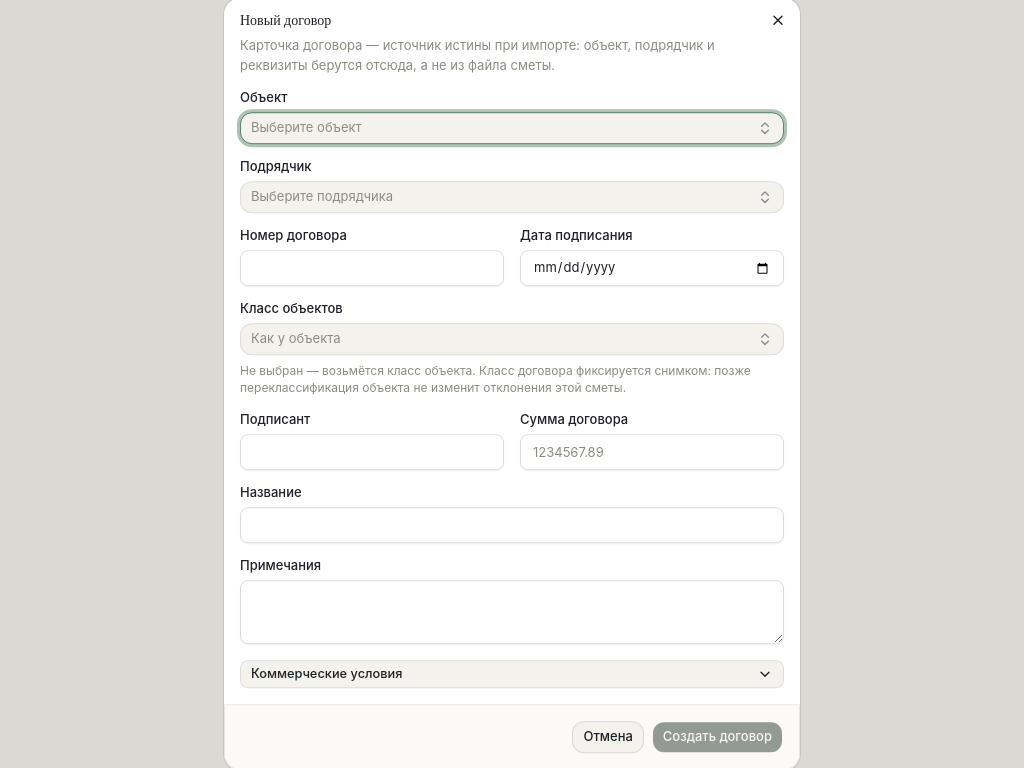
Test: Форма договора: поиск объекта и подрядчика › выбранный объект остаётся подписан, даже когда выпал из выдачи
Click the dropdown labelled "Выберите объект": (306, 127) [240,112,784,144]
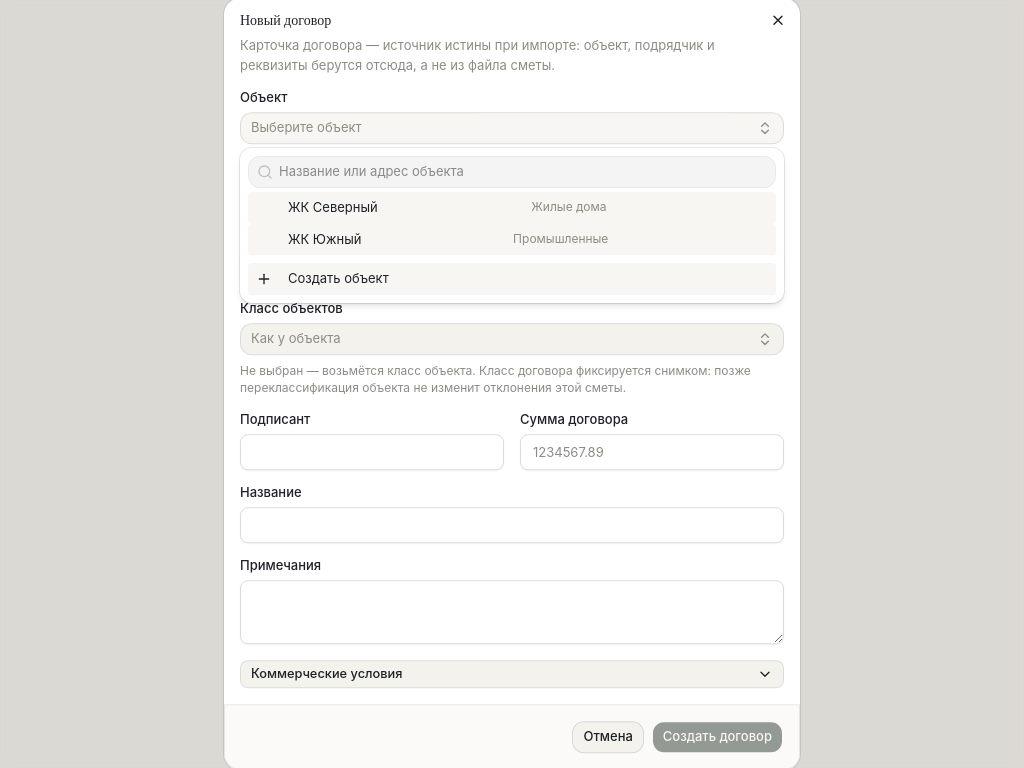
Click the text "ЖК Северный": (333, 208) [288,198,378,218]
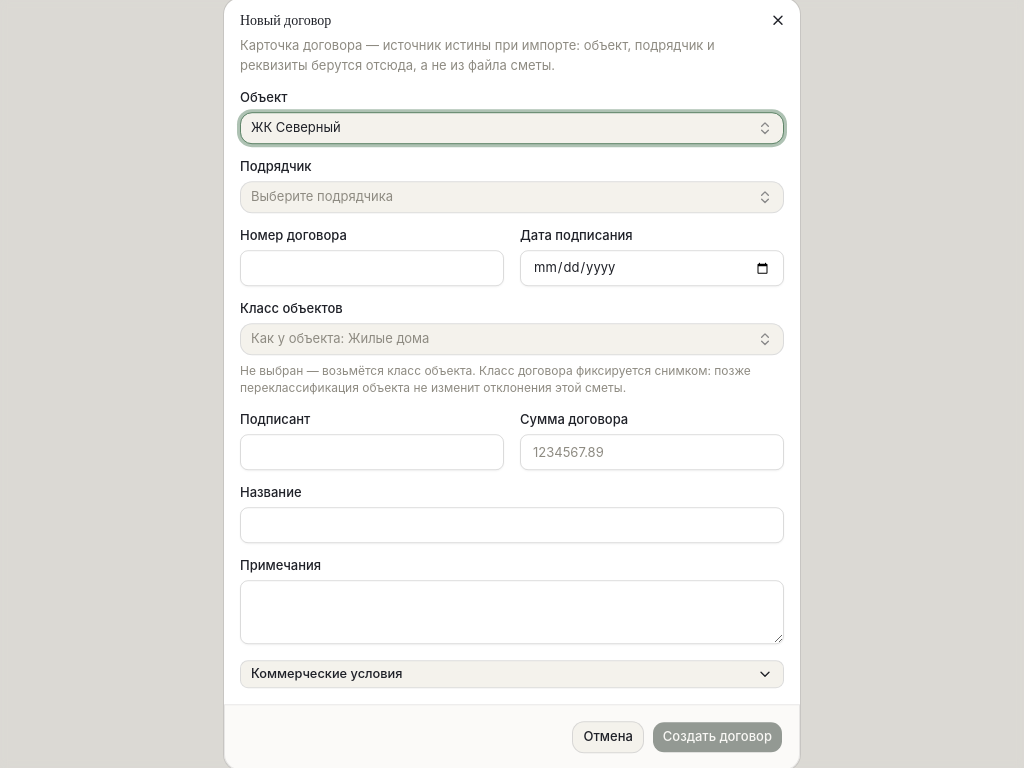
Check: the dropdown named "Объект" reads "ЖК Северный"
Click the dropdown named "Объект": (296, 127) [240,112,784,144]
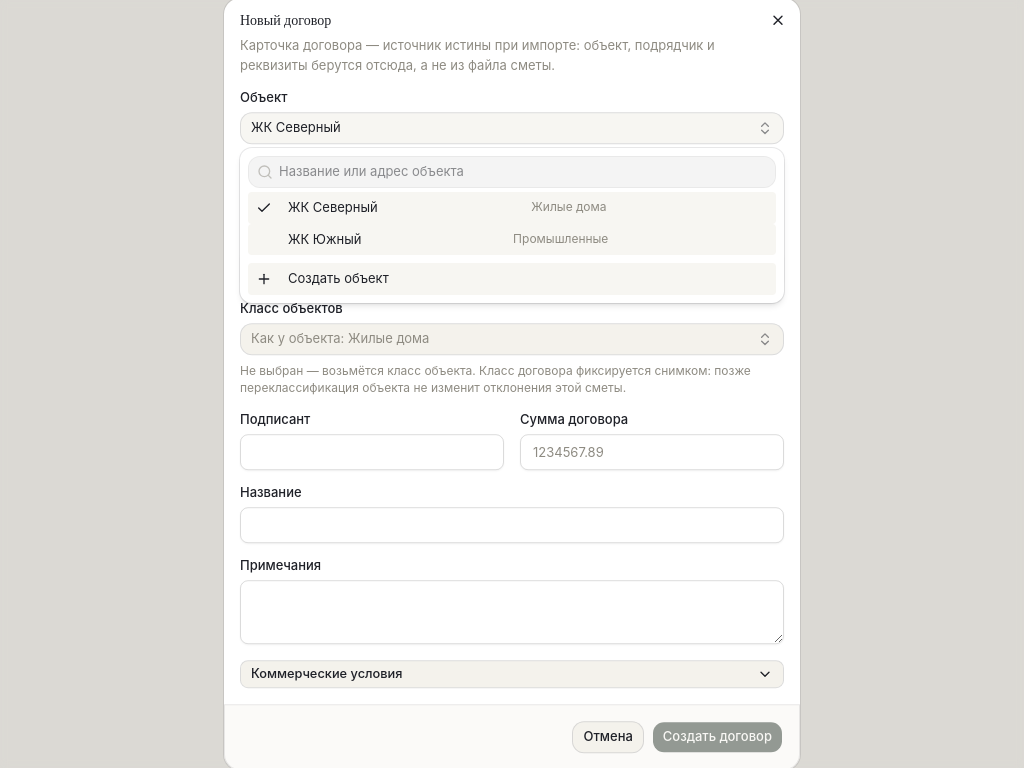
In the dropdown with placeholder "Название или адрес объекта": (524, 172) [273,162,775,182], type "Южный"
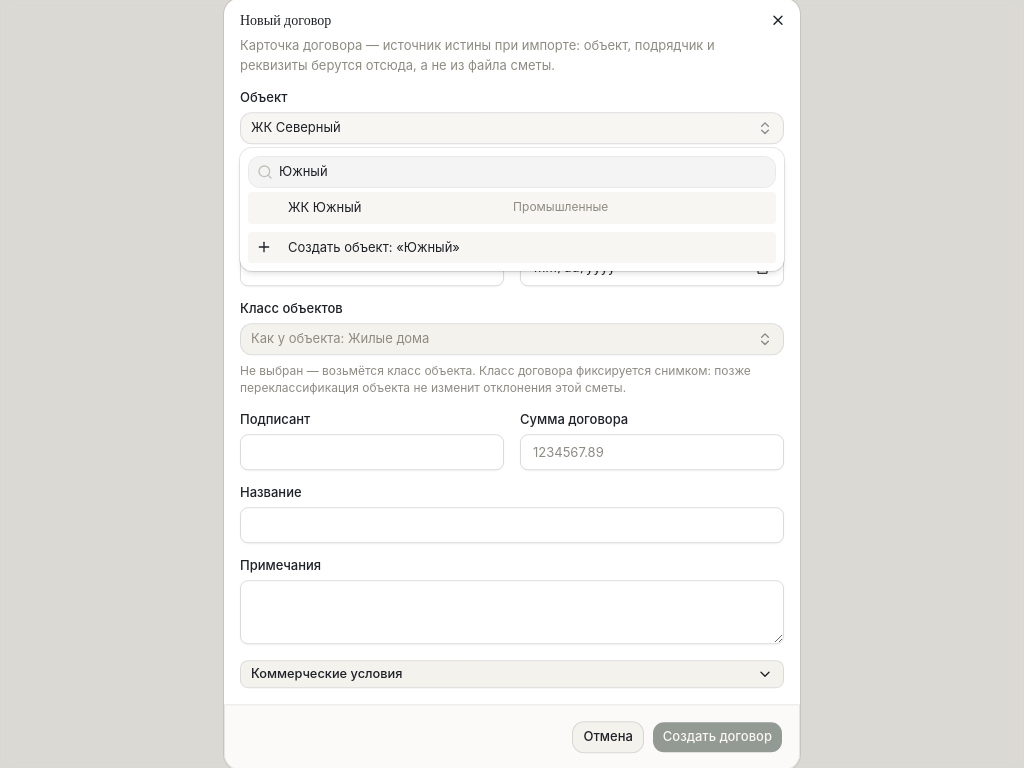
Check: the text "ЖК Южный" is shown, box [288,198,362,218]
Check: the dropdown named "Объект" reads "ЖК Северный", box [240,112,784,144]
Check: the text "ЖК Северный" is shown once, box [251,120,341,136]
